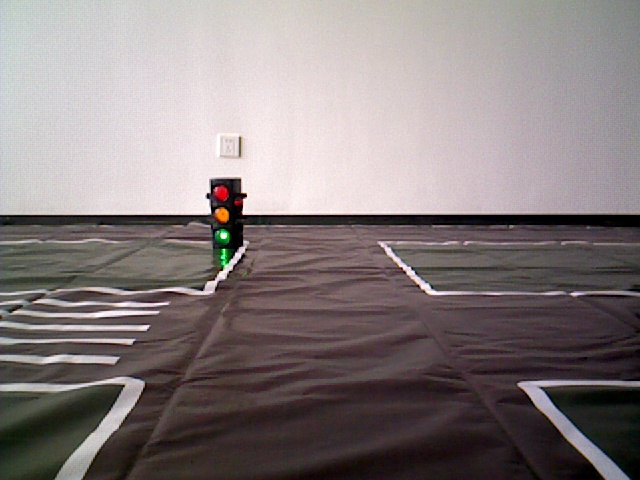green: (211, 182, 242, 242)
